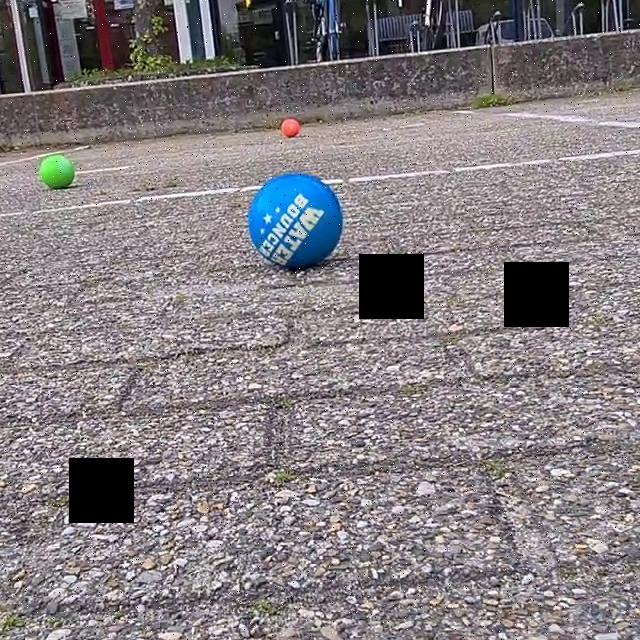ball: (34, 149, 78, 193), (279, 113, 304, 141)
